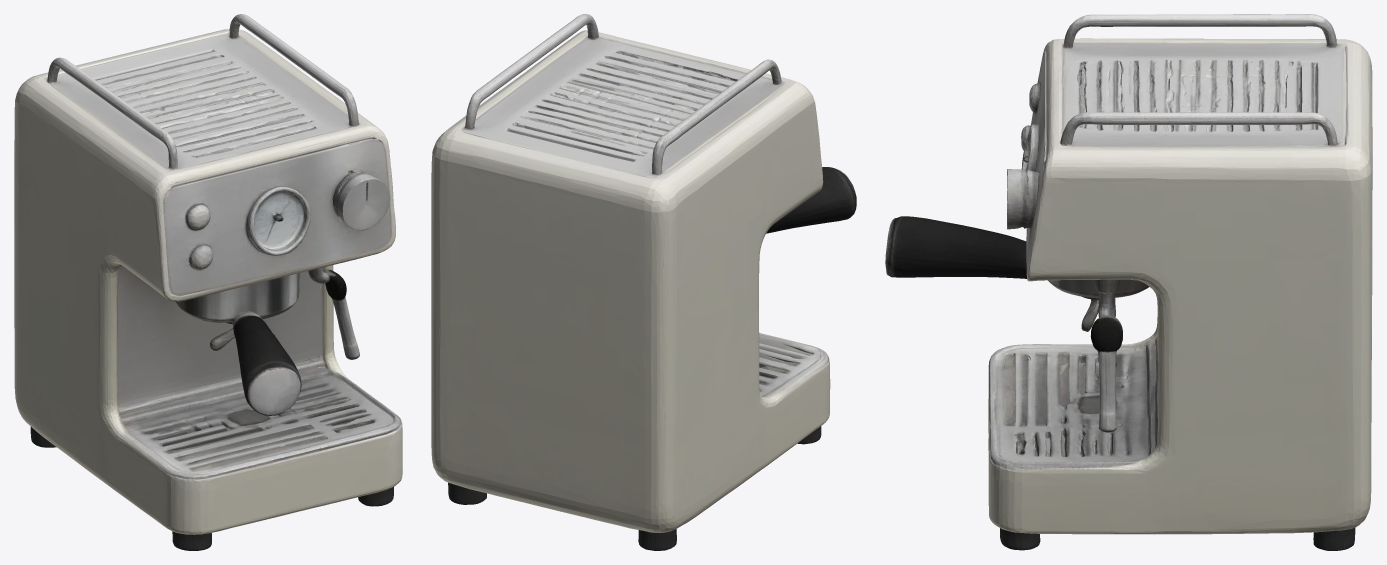
The model's file is espresso.glb.
3 renders of one model, left to right at view 1: azimuth 30°, elevation 25°; view 2: azimuth 150°, elevation 25°; view 3: azimuth 270°, elevation 25°, orthographic. The views are drawn at different scales.
Visible parts, largest first — view 1: geometry_0; view 2: geometry_0; view 3: geometry_0.
Boxes of the visible parts, <box> form: geometry_0: <box>14,14,402,550</box>; geometry_0: <box>431,14,856,550</box>; geometry_0: <box>885,14,1372,550</box>.
Bounding box in the file's own units: 0.6118 × 0.9654 × 0.9908.
1 material, 1 textured.
